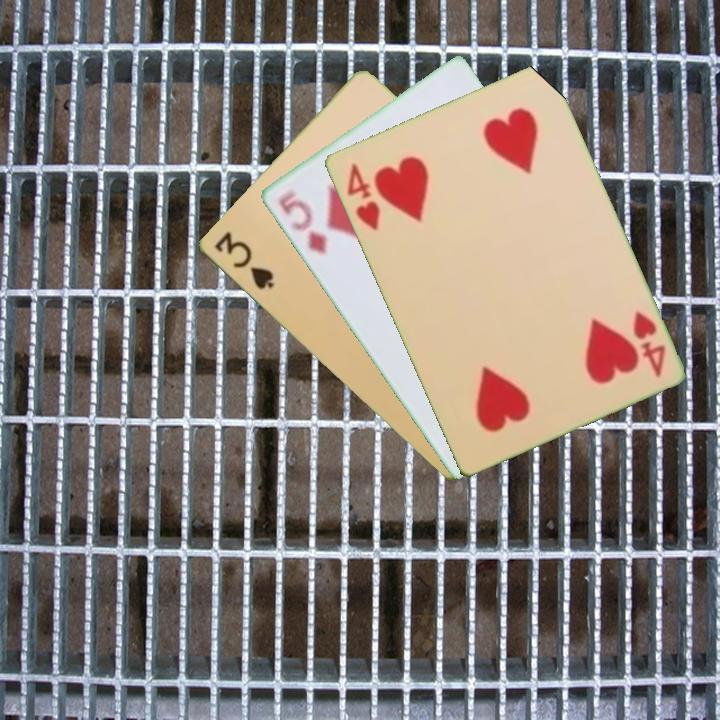3s: (210, 227, 276, 293)
4h: (342, 159, 382, 234), (628, 307, 668, 380)
5d: (274, 187, 329, 257)
